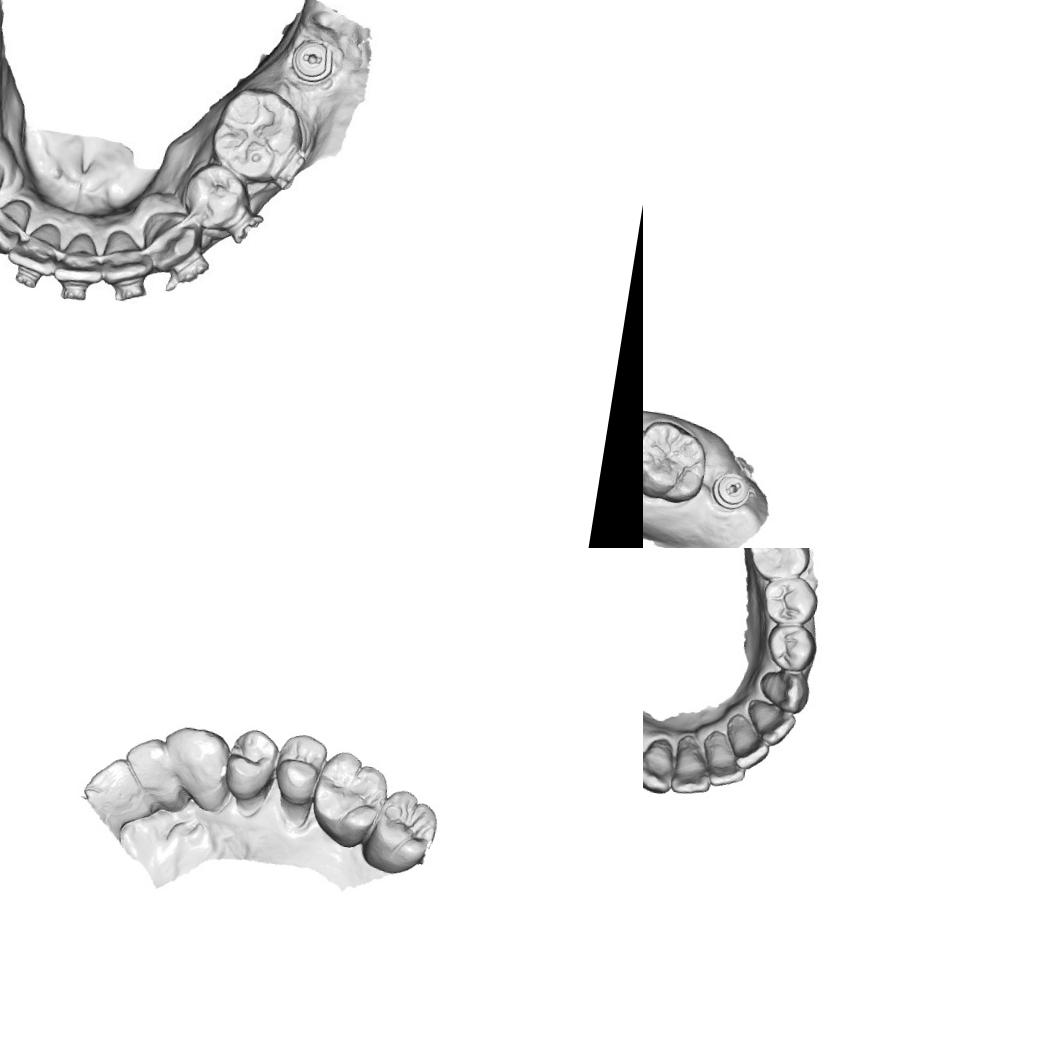canine: (152, 720, 236, 812), (136, 205, 204, 269), (758, 659, 816, 712), (643, 727, 685, 800)
implant: (289, 24, 340, 86)
implant_minus: (708, 470, 752, 512)
incisor: (77, 750, 151, 829), (118, 731, 177, 803), (666, 732, 722, 800), (698, 726, 756, 790), (99, 226, 158, 288), (52, 227, 110, 290), (5, 218, 63, 278), (723, 712, 777, 770), (747, 695, 798, 746), (0, 192, 35, 251)
molar: (207, 82, 306, 188), (302, 745, 394, 855), (358, 784, 443, 882), (643, 416, 713, 508), (743, 548, 817, 589)
premolar: (219, 724, 282, 806), (269, 729, 332, 810), (182, 160, 251, 230), (760, 570, 821, 630), (762, 618, 820, 674)
